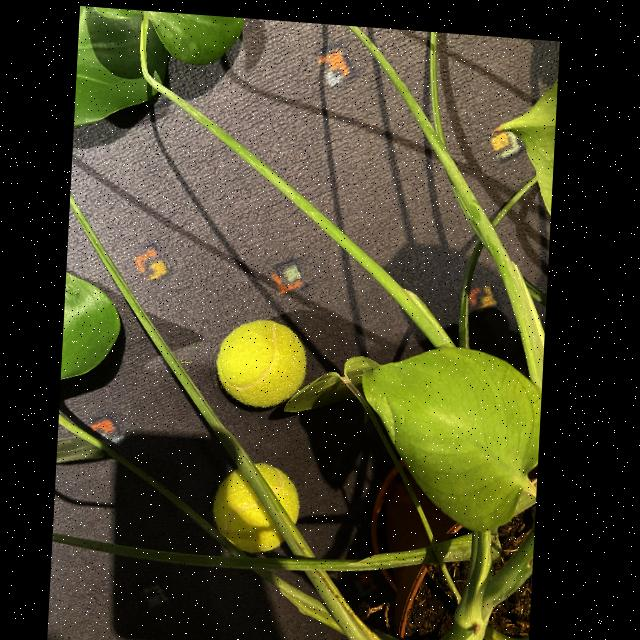Tennisball: (217, 320, 307, 408), (213, 469, 284, 553), (254, 463, 300, 524)
